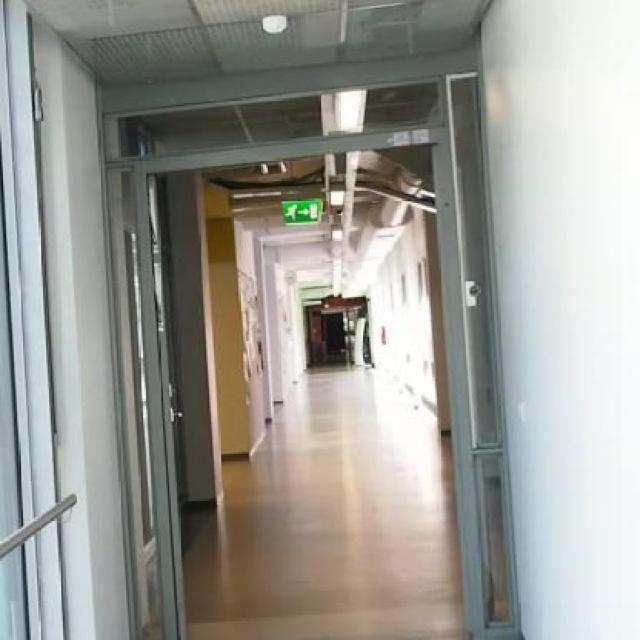emergency_exit: (280, 197, 323, 226)
